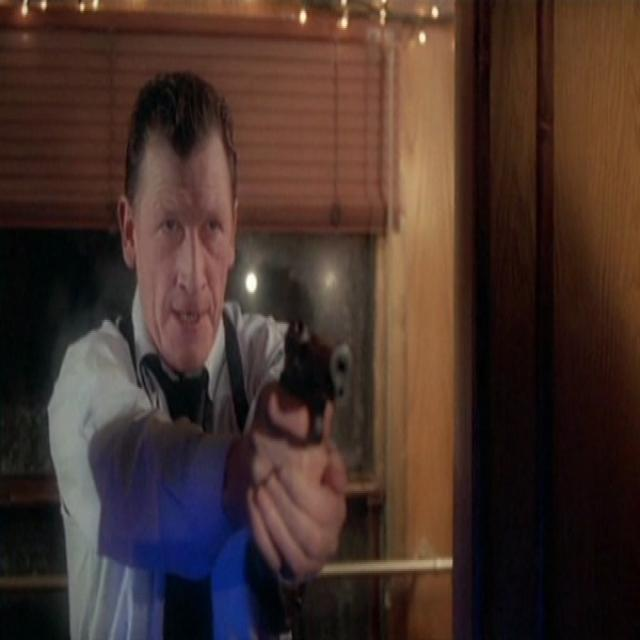weapons: (259, 287, 369, 574)
